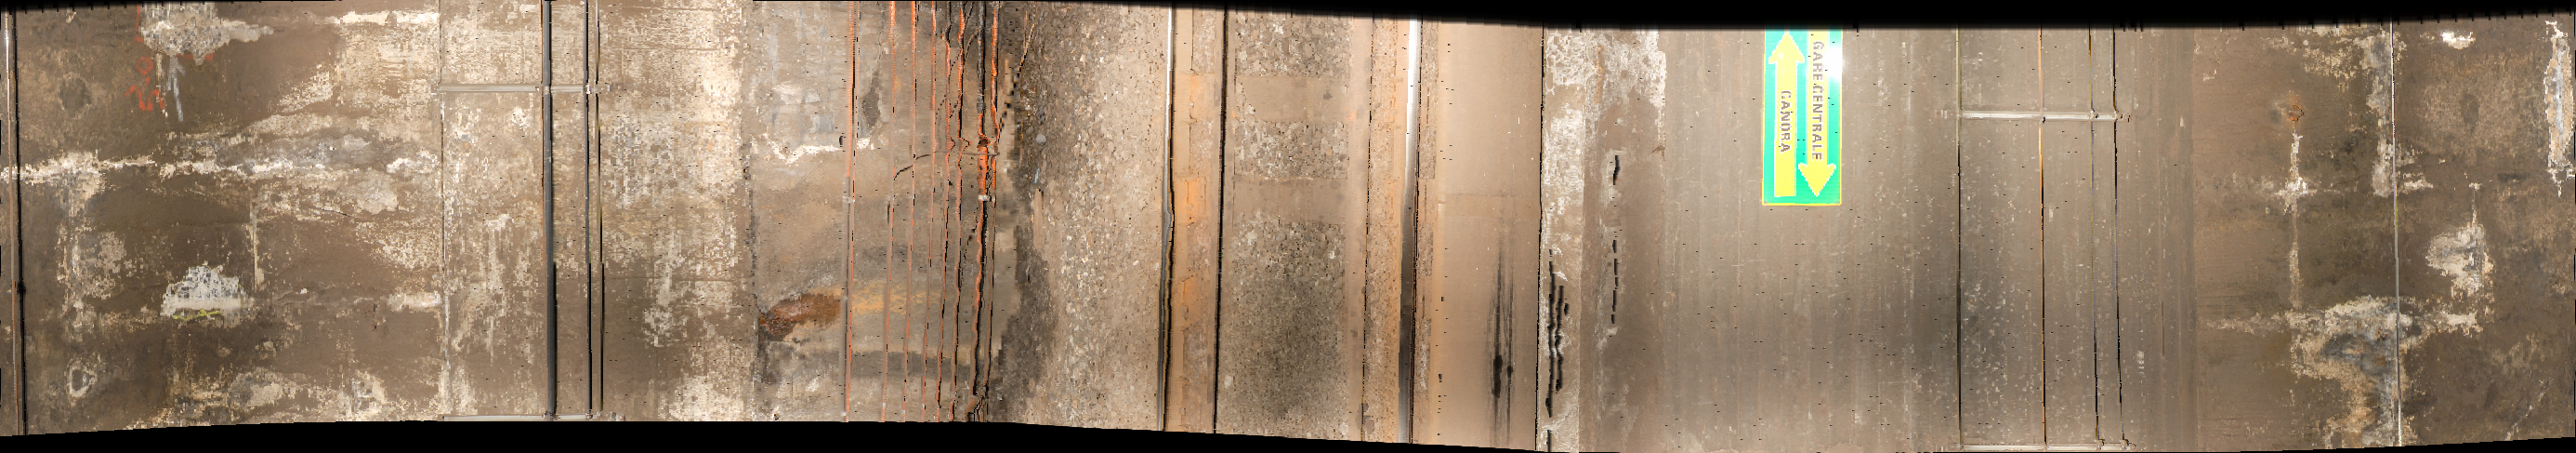pipes: (1947, 31, 2206, 453), (835, 3, 1005, 453), (527, 5, 626, 448)
sign: (1759, 26, 1845, 209)
tracks: (1163, 5, 1536, 451)
